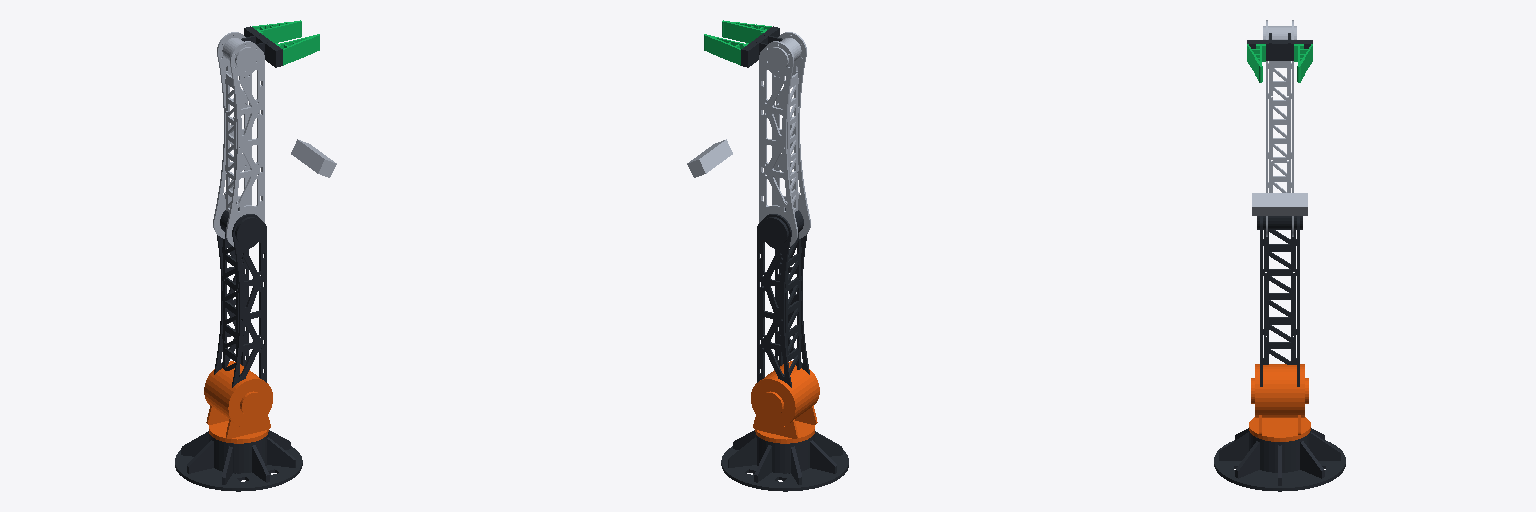
URDF robot description (zhihui_finray_picker_arm):
<?xml version="1.0"?>
<!-- 四自由度采摘机械臂 + 平行夹爪（开放演示模型） -->
<robot name="zhihui_finray_picker_arm">

  <material name="fiberglass_dark"><color rgba="0.20 0.22 0.25 1.0"/></material>
  <material name="turret_orange"><color rgba="0.92 0.42 0.12 1.0"/></material>
  <material name="metal_silver"><color rgba="0.72 0.75 0.80 1.0"/></material>
  <material name="finray_tpu_green"><color rgba="0.12 0.78 0.42 1.0"/></material>

  <link name="base_link">
    <visual>
      <origin xyz="0 0 0" rpy="0 0 0"/>
      <geometry><mesh filename="package://zhihui_picker/meshes/base_turntable.stl"/></geometry>
      <material name="fiberglass_dark"/>
    </visual>
  </link>

  <link name="camera_link">
    <visual>
      <geometry><box size="0.028 0.095 0.028"/></geometry>
      <material name="metal_silver"/>
    </visual>
  </link>
  <joint name="hand_eye_fixed_joint" type="fixed">
    <parent link="base_link"/>
    <child link="camera_link"/>
    <origin xyz="0.15 0.0 0.55" rpy="0 0.5236 0"/>
  </joint>

  <link name="shoulder_link">
    <visual>
      <origin xyz="0 0 0" rpy="0 0 0"/>
      <geometry><mesh filename="package://zhihui_picker/meshes/shoulder_turret.stl"/></geometry>
      <material name="turret_orange"/>
    </visual>
  </link>
  <joint name="joint1_yaw" type="revolute">
    <parent link="base_link"/>
    <child link="shoulder_link"/>
    <origin xyz="0 0 0.065" rpy="0 0 0"/>
    <axis xyz="0 0 1"/>
    <limit lower="-3.14" upper="3.14" effort="60" velocity="2.0"/>
  </joint>

  <link name="upper_arm_link">
    <visual>
      <origin xyz="0 0 0" rpy="0 0 0"/>
      <geometry><mesh filename="package://zhihui_picker/meshes/upper_arm.stl"/></geometry>
      <material name="fiberglass_dark"/>
    </visual>
  </link>
  <joint name="joint2_shoulder" type="revolute">
    <parent link="shoulder_link"/>
    <child link="upper_arm_link"/>
    <origin xyz="0 0 0.070" rpy="0 0 0"/>
    <axis xyz="0 1 0"/>
    <limit lower="-1.57" upper="1.57" effort="60" velocity="2.0"/>
  </joint>

  <link name="forearm_link">
    <visual>
      <origin xyz="0 0 0" rpy="0 0 0"/>
      <geometry><mesh filename="package://zhihui_picker/meshes/forearm.stl"/></geometry>
      <material name="metal_silver"/>
    </visual>
  </link>
  <joint name="joint3_elbow" type="revolute">
    <parent link="upper_arm_link"/>
    <child link="forearm_link"/>
    <origin xyz="0 0 0.326" rpy="0 0 0"/>
    <axis xyz="0 1 0"/>
    <limit lower="-2.4" upper="2.4" effort="40" velocity="2.0"/>
  </joint>

  <link name="ee_link">
    <visual>
      <origin xyz="0 0 0" rpy="0 0 0"/>
      <geometry><mesh filename="package://zhihui_picker/meshes/wrist_palm.stl"/></geometry>
      <material name="fiberglass_dark"/>
    </visual>
  </link>
  <joint name="joint4_wrist" type="revolute">
    <parent link="forearm_link"/>
    <child link="ee_link"/>
    <origin xyz="0 0 0.326" rpy="0 0 0"/>
    <axis xyz="0 1 0"/>
    <limit lower="-3.14" upper="3.14" effort="20" velocity="3.0"/>
  </joint>

  <link name="left_finger">
    <visual>
      <origin xyz="0 0 0" rpy="0 0 0"/>
      <geometry><mesh filename="package://zhihui_picker/meshes/finray_finger_left.stl"/></geometry>
      <material name="finray_tpu_green"/>
    </visual>
  </link>
  <joint name="gripper_left_joint" type="prismatic">
    <parent link="ee_link"/>
    <child link="left_finger"/>
    <origin xyz="0.056 0.0 0" rpy="0 0 0"/>
    <axis xyz="0 1 0"/>
    <limit lower="0.012" upper="0.052" effort="15" velocity="0.5"/>
  </joint>

  <link name="right_finger">
    <visual>
      <origin xyz="0 0 0" rpy="0 0 0"/>
      <geometry><mesh filename="package://zhihui_picker/meshes/finray_finger_right.stl"/></geometry>
      <material name="finray_tpu_green"/>
    </visual>
  </link>
  <joint name="gripper_right_joint" type="prismatic">
    <parent link="ee_link"/>
    <child link="right_finger"/>
    <origin xyz="0.056 0.0 0" rpy="0 0 0"/>
    <axis xyz="0 -1 0"/>
    <limit lower="0.012" upper="0.052" effort="15" velocity="0.5"/>
  </joint>

</robot>

--- Facts derived from the render (not from the file) ---
Views: 3 orthographic renders of the robot side by side, from view 1: azimuth 30°, elevation 25°; view 2: azimuth 150°, elevation 25°; view 3: azimuth 270°, elevation 25°.
Model zhihui_finray_picker_arm with 8 links and 7 joints (4 revolute, 2 prismatic, 1 fixed), rooted at base_link, posed all joints at 0 but 2 set to mid-range because 0 is outside their limits (gripper_left_joint = 0.032, gripper_right_joint = 0.032).
Links seen in each view (by area): view 1: forearm_link, upper_arm_link, base_link, shoulder_link, camera_link, right_finger, left_finger, ee_link; view 2: forearm_link, upper_arm_link, base_link, shoulder_link, camera_link, left_finger, right_finger, ee_link; view 3: base_link, upper_arm_link, shoulder_link, forearm_link, camera_link, ee_link.
Link boxes in pixels (left/top/right/bottom): forearm_link: left=213, top=32, right=264, bottom=246; upper_arm_link: left=214, top=208, right=266, bottom=387; base_link: left=175, top=430, right=302, bottom=491; shoulder_link: left=204, top=361, right=272, bottom=443; camera_link: left=291, top=139, right=336, bottom=177; right_finger: left=275, top=34, right=319, bottom=65; left_finger: left=252, top=20, right=301, bottom=42; ee_link: left=241, top=26, right=282, bottom=67; forearm_link: left=759, top=32, right=810, bottom=246; upper_arm_link: left=757, top=208, right=809, bottom=387; base_link: left=721, top=430, right=848, bottom=491; shoulder_link: left=751, top=361, right=819, bottom=443; camera_link: left=687, top=139, right=732, bottom=177; left_finger: left=704, top=34, right=748, bottom=65; right_finger: left=722, top=20, right=771, bottom=42; ee_link: left=741, top=26, right=782, bottom=67; base_link: left=1214, top=428, right=1345, bottom=491; upper_arm_link: left=1257, top=216, right=1302, bottom=386; shoulder_link: left=1249, top=364, right=1310, bottom=441; forearm_link: left=1263, top=20, right=1296, bottom=236; camera_link: left=1252, top=193, right=1307, bottom=215; ee_link: left=1247, top=33, right=1312, bottom=60.
Size in the robot's own frame: 0.2796 by 0.221 by 0.816 metres.
Meshes: 7 distinct files referenced, 7 mesh visuals loaded (7 binary STL).
